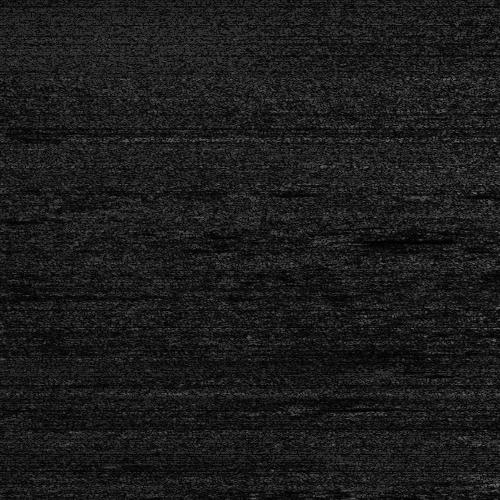rock: (306, 232, 379, 245), (413, 190, 466, 195), (224, 191, 277, 194), (0, 213, 16, 220), (0, 134, 37, 137)
shadow: (343, 232, 448, 245), (440, 190, 486, 195), (17, 134, 78, 137), (0, 213, 18, 220), (251, 191, 290, 194)
